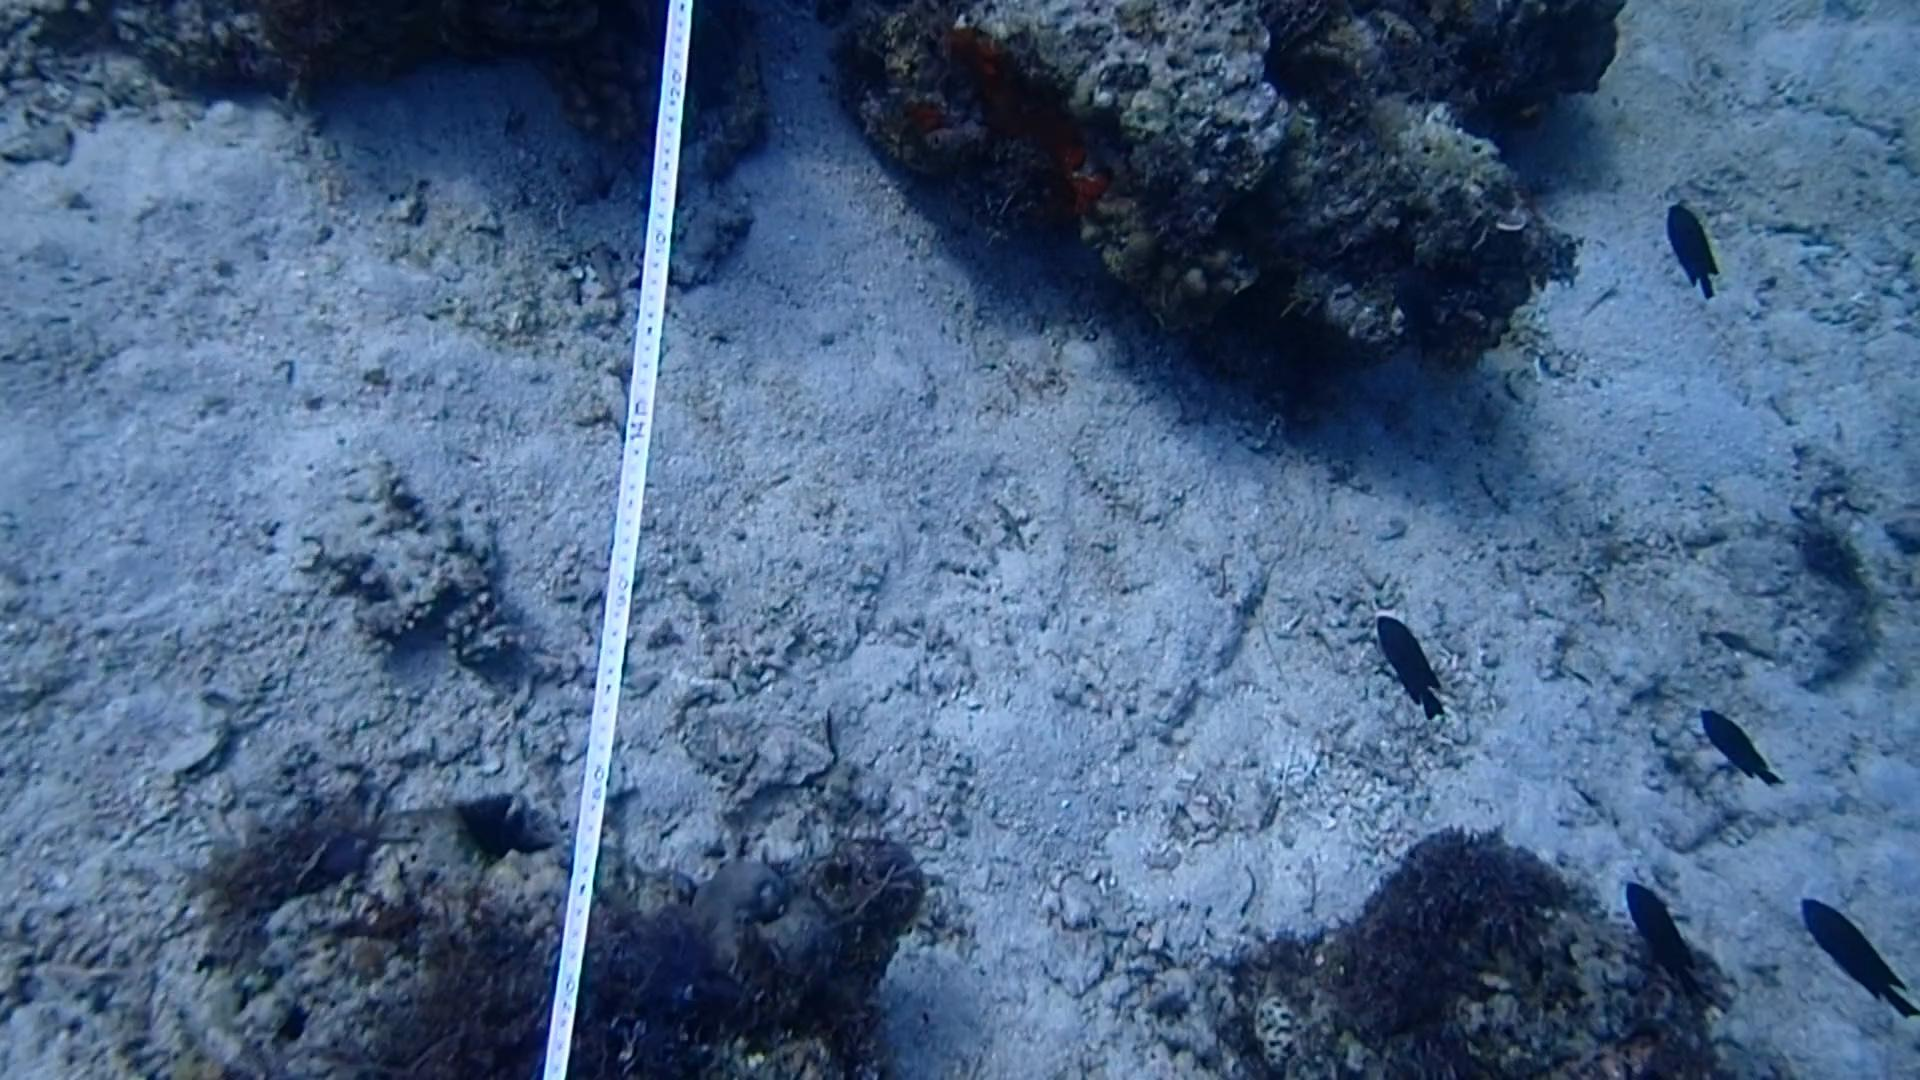Dark Fish: (1793, 884, 1920, 1026), (1613, 866, 1709, 1013), (1365, 596, 1452, 729), (1685, 692, 1791, 796), (1655, 189, 1724, 298)
